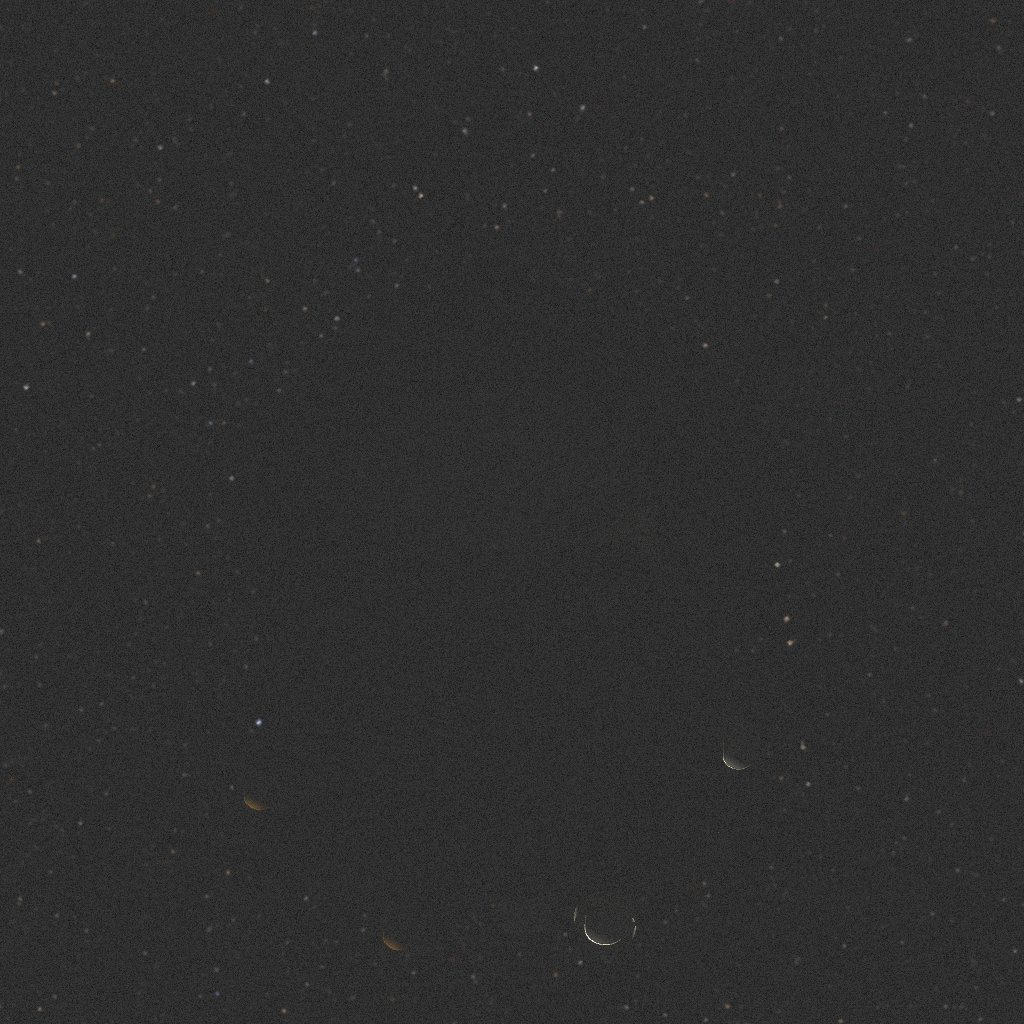proba_3_ocs: (231, 282, 777, 953)
